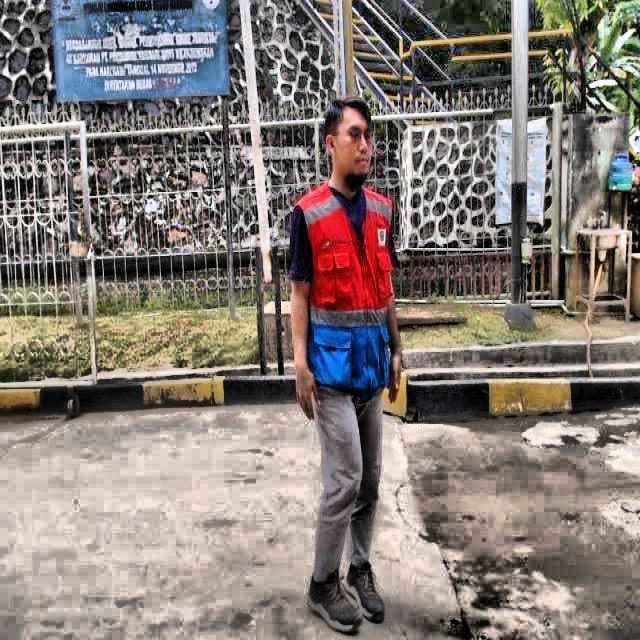safety_jacket: (295, 169, 398, 412)
